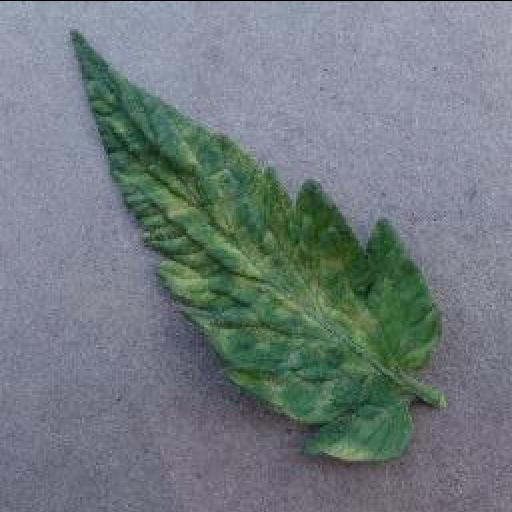disease_tomato: (65, 28, 443, 464)
